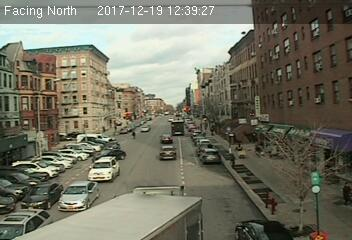car: (57, 179, 101, 213), (21, 182, 63, 210), (87, 157, 120, 182), (158, 145, 177, 160), (200, 147, 218, 162), (159, 133, 172, 144)
ups: (170, 120, 184, 137)
